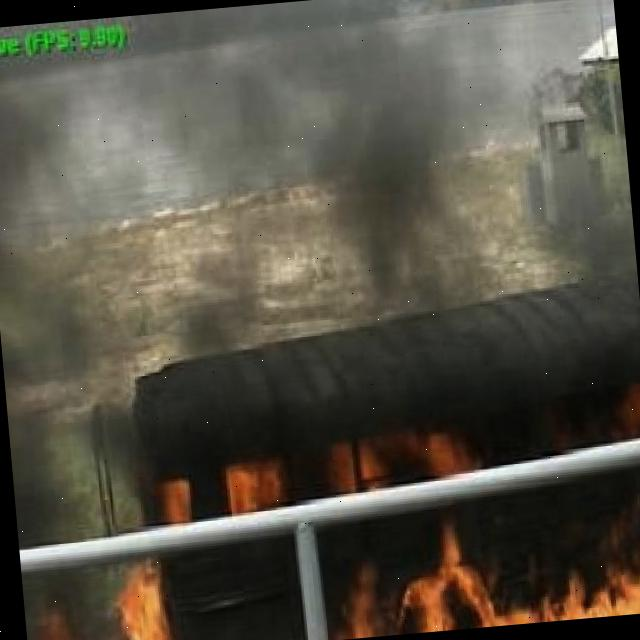fire: (326, 508, 640, 640), (160, 445, 362, 515), (32, 563, 180, 640), (371, 428, 474, 484)
